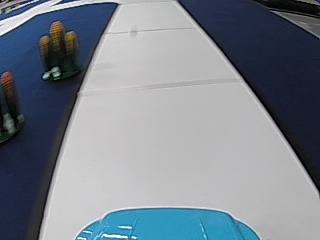corn: (37, 17, 82, 82), (1, 70, 24, 143)
